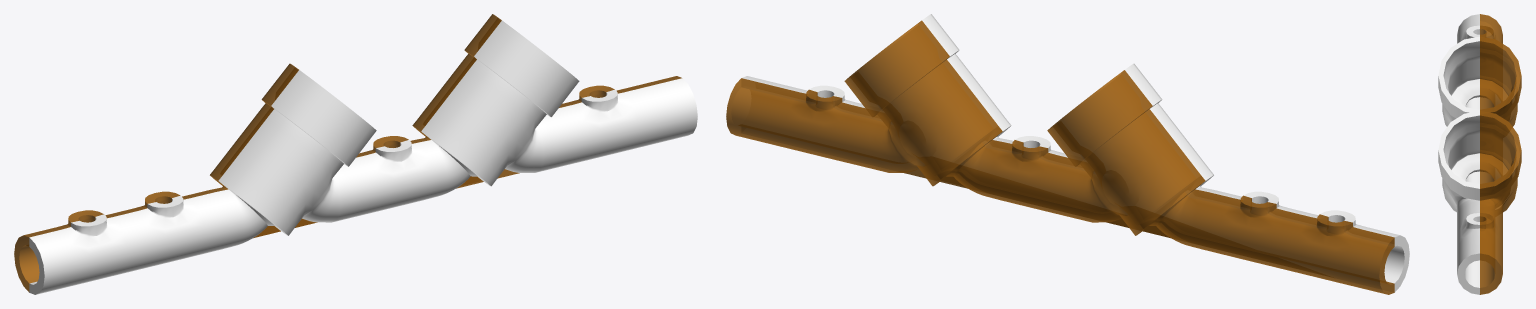
File: Pipes_HALVED5_RPZ.fbx
The picture shows the model from 3 angles, left to right: view 1: azimuth 30°, elevation 25°; view 2: azimuth 150°, elevation 25°; view 3: azimuth 270°, elevation 25°; orthographic projection. The views are drawn at different scales.
Parts seen in each view (by area): view 1: RPZ_Housing_LP_inner.002; view 2: RPZ_Housing_LP_inner.002; view 3: RPZ_Housing_LP_inner.002.
Boxes of the visible parts, left/top/right/bottom form: RPZ_Housing_LP_inner.002: left=14, top=14, right=697, bottom=294; RPZ_Housing_LP_inner.002: left=726, top=14, right=1409, bottom=294; RPZ_Housing_LP_inner.002: left=1438, top=14, right=1521, bottom=294.
Size of the model in its own units: 42.8 by 9.84 by 6.3.
